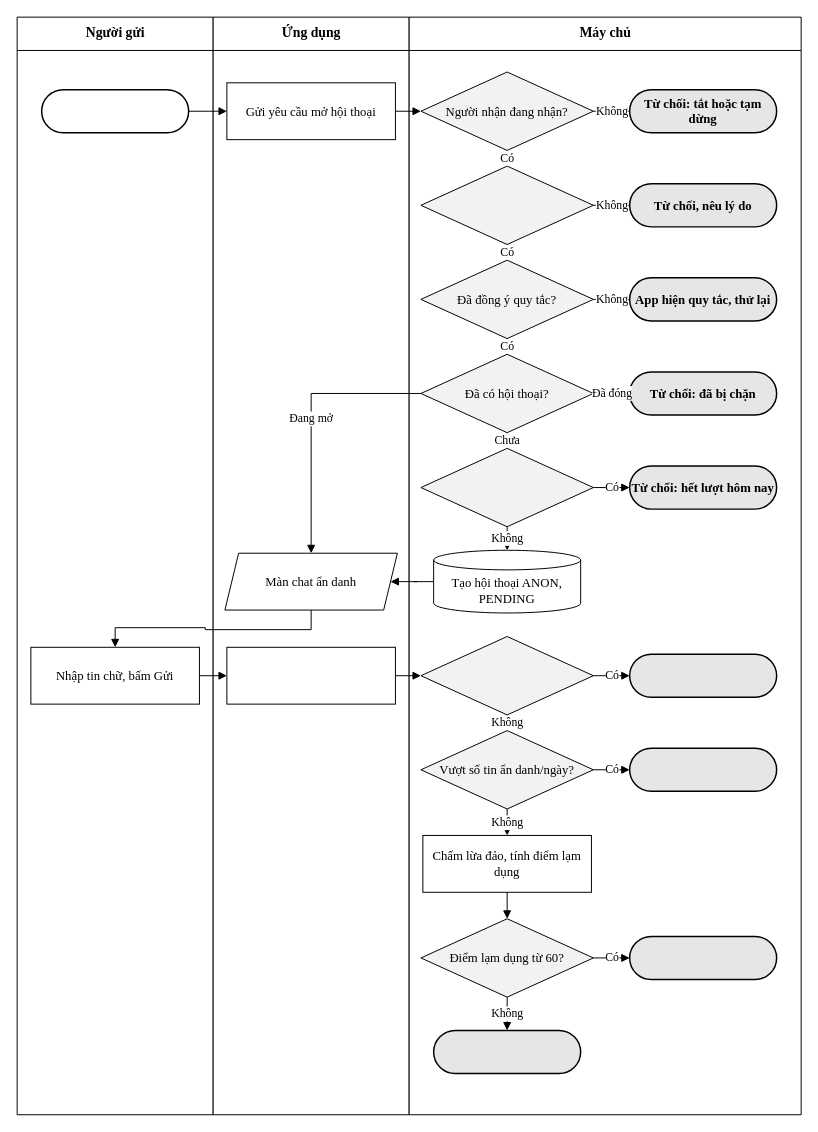
This 818x1132 diagram has some shape labels left out. Here are the shapes that lost their labels. From the top down, the centre of each, then its label:
At (x=114, y=110): "Bấm Nhắn ẩn danh".
At (x=506, y=205): "Người gửi đủ điều kiện?".
At (x=506, y=487): "Vượt số hội thoại mới?".
At (x=310, y=675): "Gửi tin".
At (x=506, y=675): "Ảnh, liên lạc, quá 3 tin?".
At (x=702, y=675): "Từ chối, ghi điểm lạm dụng".
At (x=702, y=769): "Từ chối: hết lượt tin".
At (x=702, y=957): "Tự tước quyền, báo admin".
At (x=506, y=1051): "Lưu tin, gửi đi đã che danh".
